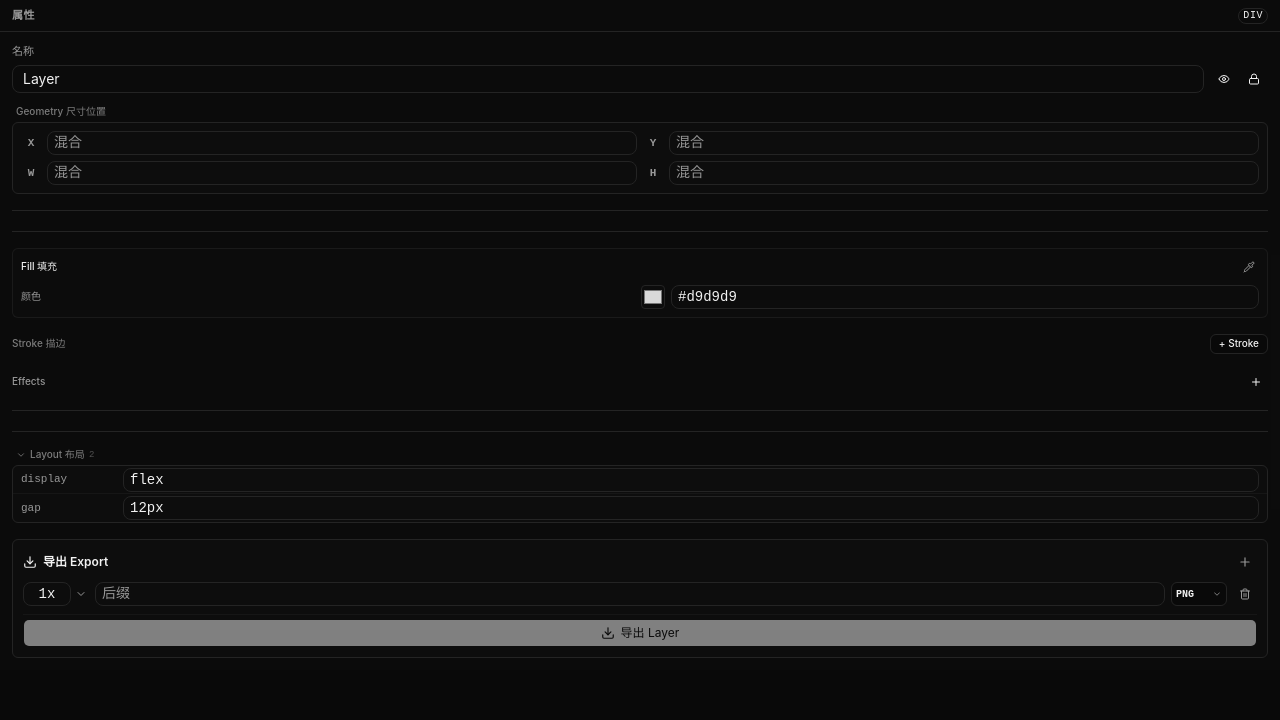
it: PropertiesPanel › supports collapsing and expanding style groups
The width and height of the screenshot is (1280, 720).
expect the field named "样式 display" is shown: met, box x1=123 y1=468 x2=1259 y2=492
Click the button "Layout 布局 2" at (57, 454), box x1=12 y1=448 x2=1268 y2=461
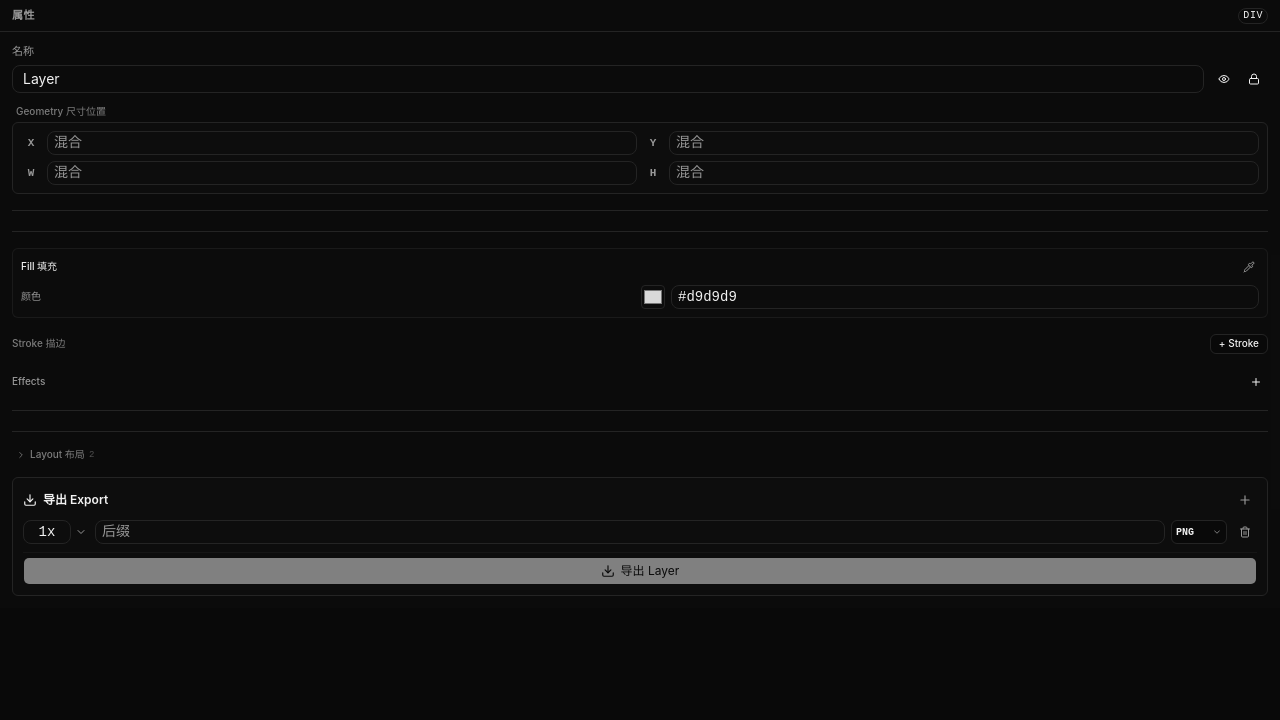
expect the text labelled "样式 display" is gone: met
Click the button "Layout 布局 2" at (57, 454), box x1=12 y1=448 x2=1268 y2=461
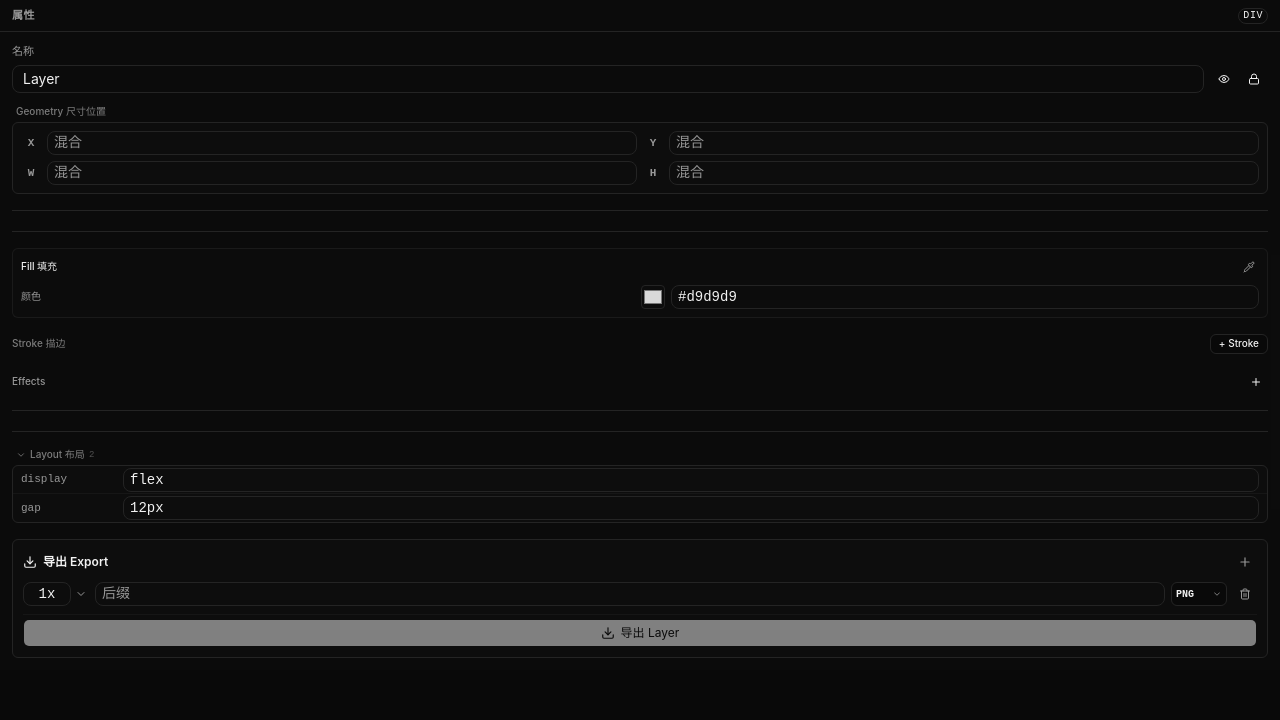
expect the field named "样式 display" is shown: met, box x1=123 y1=468 x2=1259 y2=492
